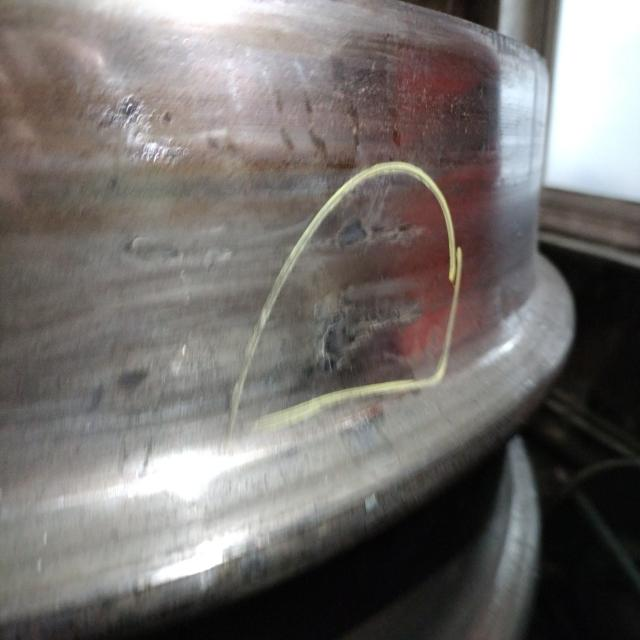flat: (303, 292, 437, 378), (333, 209, 433, 265)
